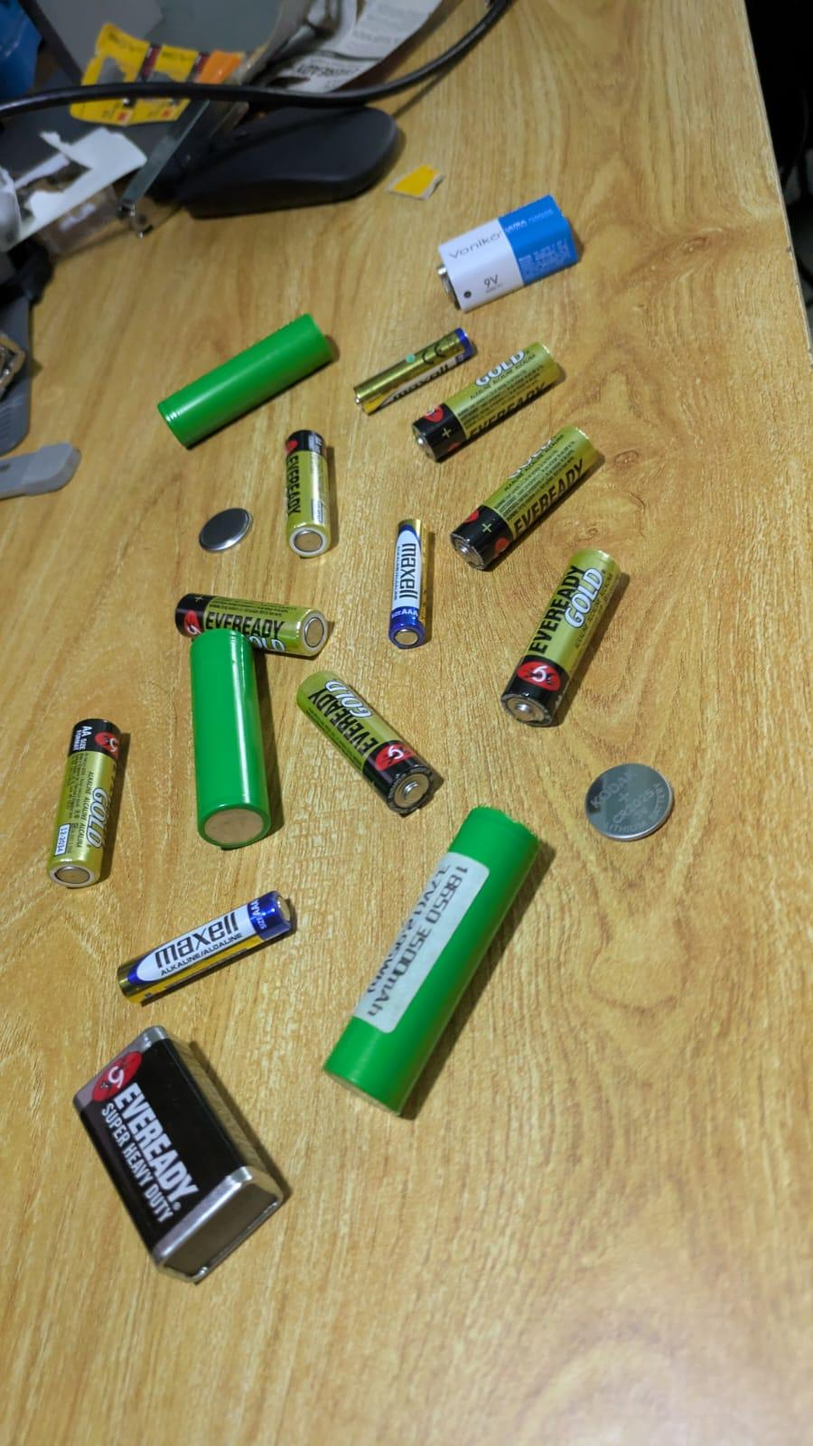9V: (70, 1025, 283, 1278), (436, 195, 583, 313)
AA: (448, 427, 599, 571), (498, 551, 624, 723), (295, 671, 440, 813), (408, 341, 566, 462), (46, 720, 123, 889), (172, 593, 329, 658), (283, 431, 335, 558)
AAA: (115, 890, 297, 1006), (351, 328, 474, 417), (388, 522, 429, 647)
COIN: (583, 762, 674, 842), (195, 507, 253, 554)
